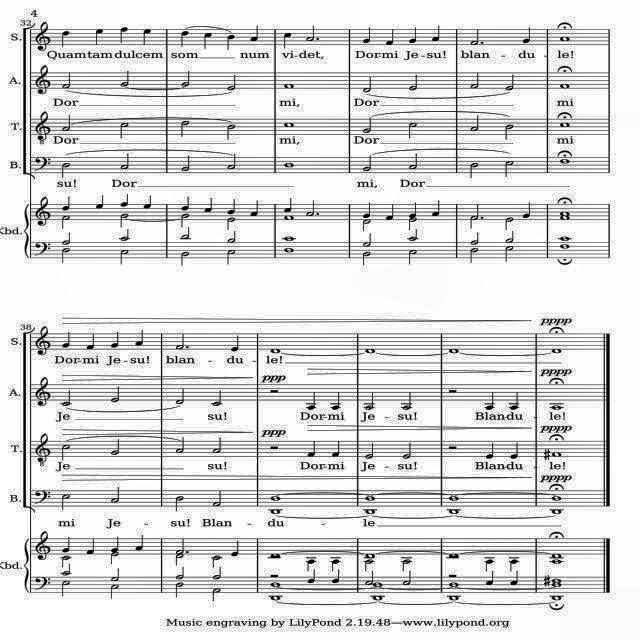Bass-clef: (32, 18, 52, 54), (33, 193, 51, 231), (32, 530, 52, 564), (31, 108, 51, 140), (34, 63, 52, 97), (33, 374, 51, 406), (34, 323, 50, 357), (36, 436, 52, 464)
Diez: (542, 569, 550, 587), (543, 448, 553, 462)
Full-note: (281, 118, 297, 130), (548, 505, 566, 515), (264, 594, 286, 602), (556, 208, 572, 218), (556, 243, 572, 253), (448, 594, 464, 604), (280, 160, 298, 168), (362, 494, 380, 502), (268, 578, 280, 590), (547, 594, 565, 602), (558, 82, 574, 90), (558, 234, 574, 242), (364, 508, 380, 516), (548, 494, 564, 502), (372, 594, 388, 602), (270, 345, 282, 355), (448, 493, 460, 503), (282, 83, 296, 91), (549, 347, 563, 355), (550, 404, 564, 412), (268, 552, 282, 560), (446, 582, 460, 590), (281, 214, 299, 220), (271, 493, 283, 502), (560, 121, 576, 127), (558, 158, 570, 166), (364, 346, 376, 354), (268, 507, 284, 513), (373, 580, 382, 590), (560, 213, 572, 220), (548, 552, 562, 558), (362, 553, 376, 559), (549, 583, 563, 589), (550, 578, 562, 584), (448, 349, 459, 355), (562, 36, 570, 44), (553, 559, 563, 565), (446, 510, 459, 514), (554, 451, 562, 457)
Half-note: (53, 442, 75, 462), (356, 74, 376, 95), (58, 490, 74, 516), (177, 153, 196, 174), (110, 482, 126, 506), (208, 434, 225, 456), (501, 158, 519, 178), (360, 392, 378, 412), (468, 68, 482, 92), (358, 153, 374, 174), (405, 75, 423, 93), (360, 442, 378, 460), (177, 68, 193, 88), (502, 120, 518, 140), (108, 438, 124, 458), (226, 153, 244, 170), (170, 388, 187, 406), (502, 72, 518, 91), (58, 246, 74, 264), (117, 227, 133, 245), (400, 441, 416, 459), (405, 120, 419, 140), (118, 150, 132, 170), (117, 247, 131, 267), (464, 204, 481, 220), (60, 72, 74, 91), (468, 111, 480, 133), (466, 26, 479, 46), (59, 388, 72, 408), (224, 124, 240, 140), (58, 230, 74, 246), (224, 250, 240, 266), (226, 72, 240, 90), (179, 119, 193, 137), (303, 197, 317, 215), (358, 253, 376, 267), (110, 384, 124, 402), (211, 488, 225, 506), (408, 151, 420, 171), (470, 160, 482, 180), (502, 212, 514, 232), (210, 388, 222, 408), (400, 568, 412, 588), (170, 333, 183, 351), (302, 26, 316, 42), (118, 122, 132, 138), (58, 162, 72, 178), (179, 251, 193, 267), (500, 231, 516, 245), (107, 582, 121, 598), (174, 581, 188, 597), (208, 567, 224, 581), (120, 68, 132, 86), (60, 115, 72, 133), (362, 116, 374, 134), (402, 388, 411, 412), (176, 436, 188, 454), (361, 569, 374, 585), (223, 232, 240, 244), (174, 492, 184, 512), (62, 579, 72, 599), (226, 216, 238, 232), (468, 230, 480, 246), (504, 246, 516, 262), (208, 554, 224, 566), (402, 556, 414, 572), (110, 566, 122, 582), (212, 586, 224, 602), (59, 564, 72, 578), (173, 538, 184, 554), (364, 233, 376, 247), (59, 554, 73, 566), (60, 214, 70, 230), (118, 212, 128, 228), (180, 212, 190, 228), (361, 218, 371, 234), (408, 248, 418, 264), (362, 559, 373, 573), (469, 245, 478, 262), (409, 217, 419, 230), (411, 230, 421, 242), (174, 554, 184, 566), (177, 566, 187, 578), (182, 227, 190, 240), (112, 552, 120, 564)
Quarter-note: (503, 388, 521, 412), (479, 386, 496, 410), (222, 334, 242, 354), (327, 388, 345, 410), (301, 391, 319, 411), (518, 24, 534, 46), (106, 328, 122, 348), (302, 438, 318, 458), (328, 438, 344, 458), (481, 442, 497, 462), (506, 440, 522, 460), (382, 28, 398, 46), (279, 198, 297, 214), (58, 330, 74, 348), (58, 535, 74, 553), (140, 24, 154, 44), (83, 536, 97, 556), (85, 332, 99, 351), (140, 194, 156, 210), (402, 202, 418, 218), (482, 570, 498, 586), (134, 533, 148, 551), (59, 28, 71, 48), (118, 24, 130, 44), (429, 24, 441, 44), (250, 198, 262, 218), (384, 202, 396, 222), (59, 193, 73, 210), (229, 541, 243, 557), (408, 27, 420, 45), (362, 27, 373, 46), (92, 29, 105, 45), (179, 29, 191, 46), (248, 24, 260, 41), (134, 329, 146, 346), (120, 192, 132, 208), (204, 198, 216, 214), (430, 200, 442, 216), (522, 202, 534, 218), (203, 30, 213, 48), (227, 34, 237, 52), (362, 202, 373, 218), (180, 197, 192, 211), (304, 557, 316, 571), (484, 558, 496, 572), (508, 558, 520, 572), (95, 192, 105, 208), (307, 568, 317, 584), (510, 570, 520, 586), (112, 534, 120, 552), (332, 568, 341, 584), (227, 200, 237, 214), (331, 558, 341, 572), (284, 32, 292, 48)
